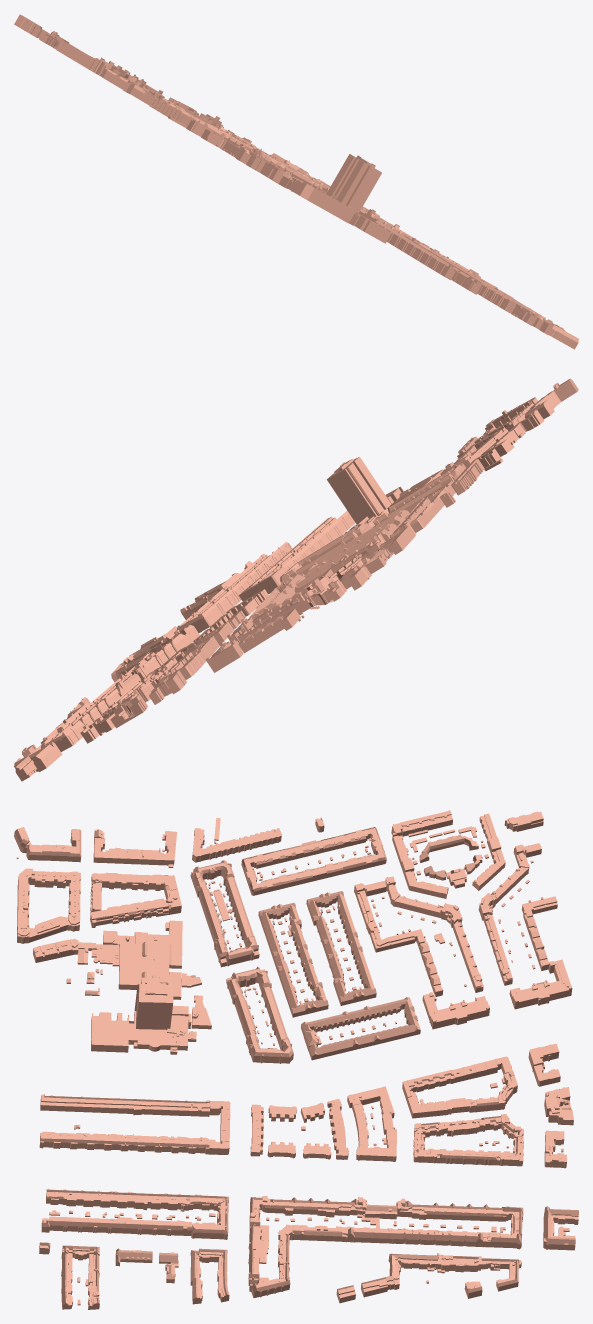
3 views of the same model, one above another, from view 1: azimuth 30°, elevation 25°; view 2: azimuth 150°, elevation 25°; view 3: azimuth 270°, elevation 25° (orthographic). The views are drawn at different scales.
Bounding box in the file's own units: 1.76e+07 × 1.27e+07 × 2.1e+07.
